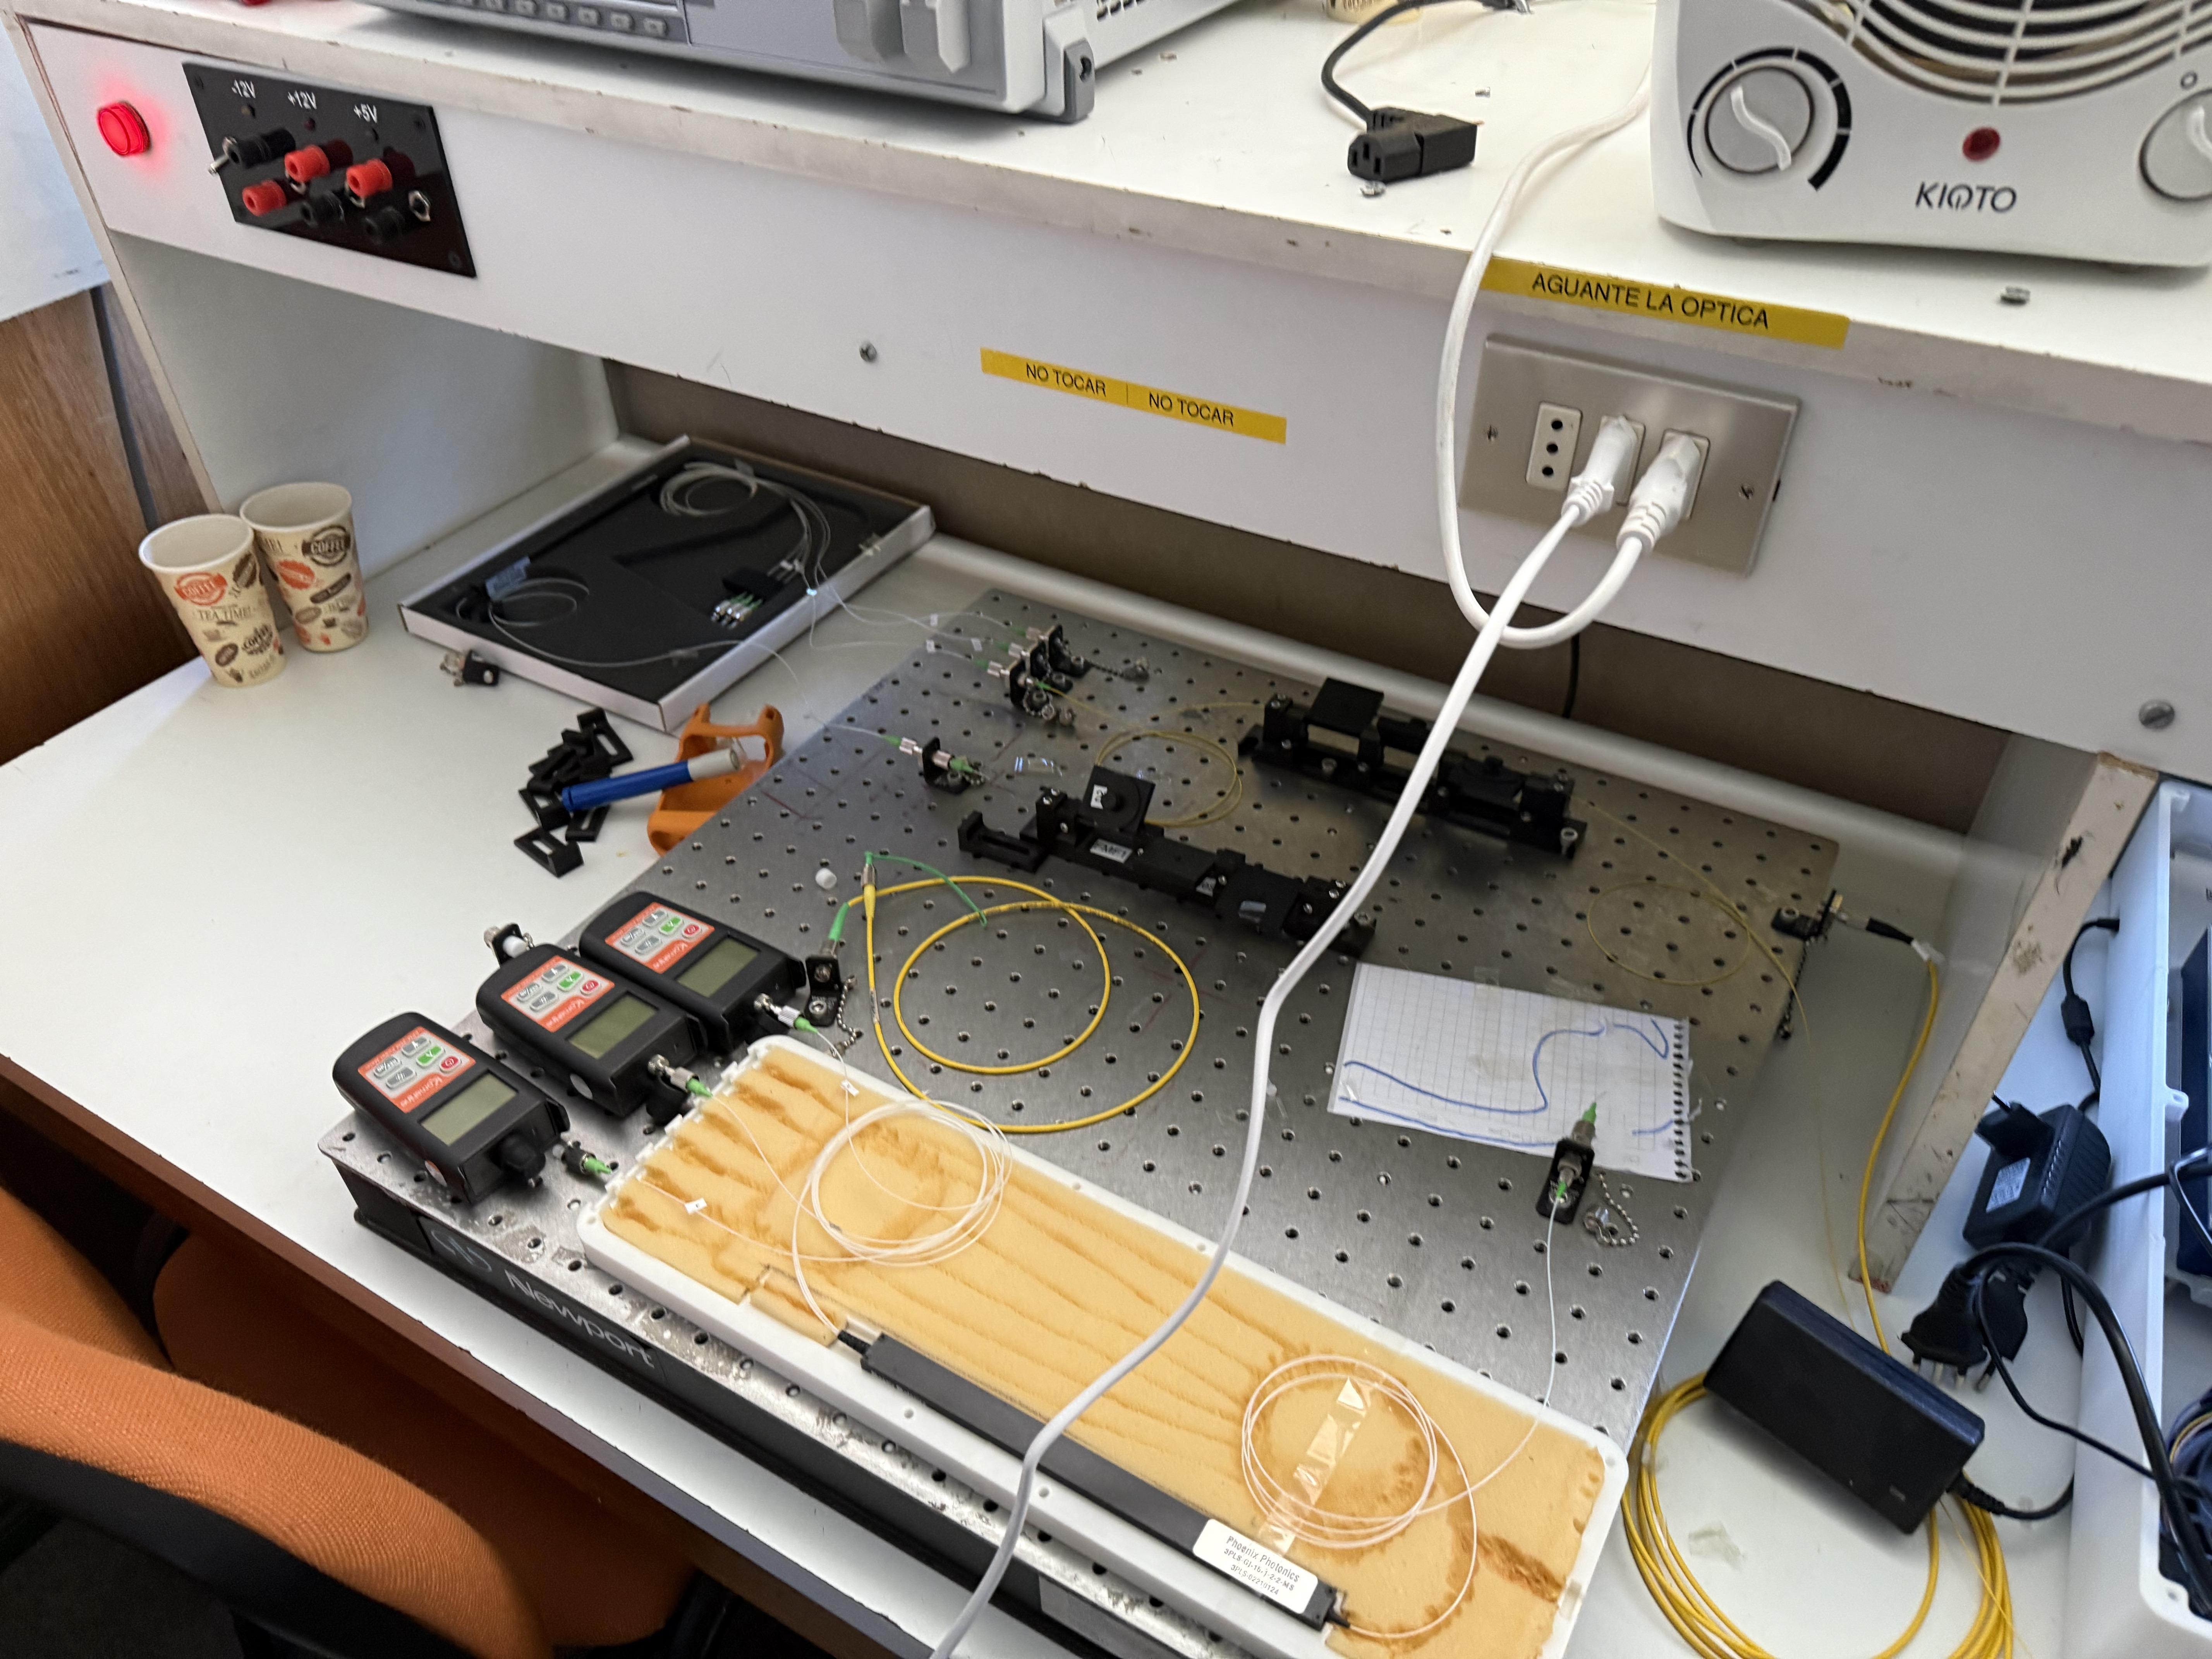paddle_polarization_controller: (1012, 767, 1390, 972), (1224, 678, 1594, 861)
powermeter: (315, 1006, 578, 1216), (456, 931, 714, 1127), (564, 885, 820, 1058)
